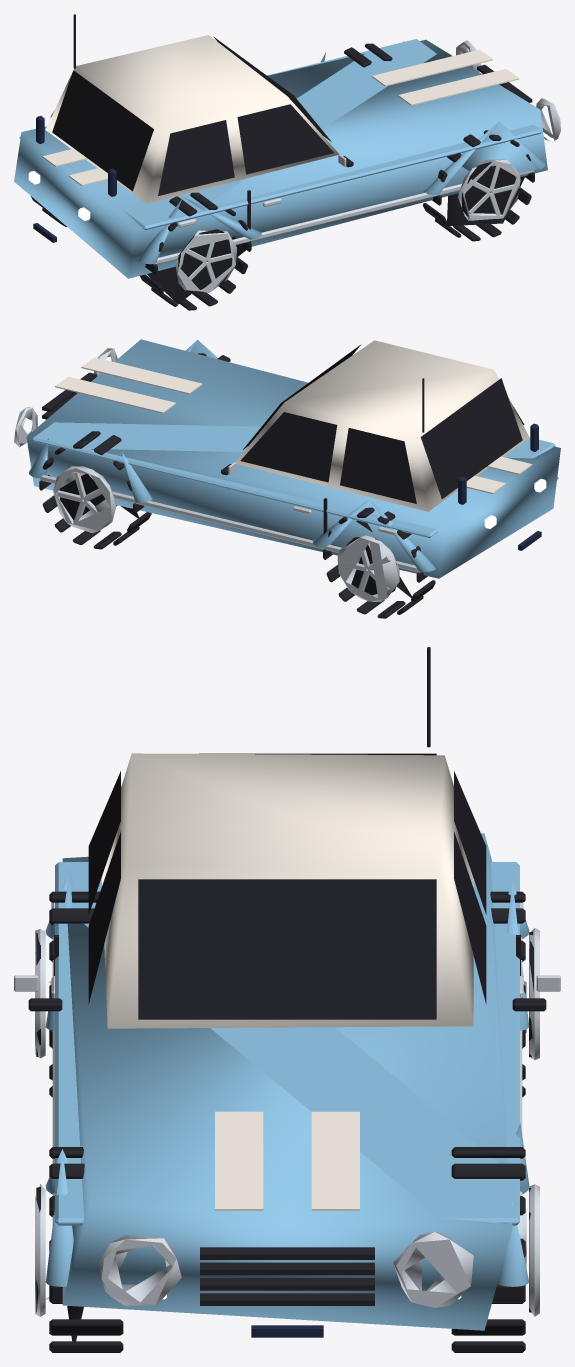
The model's file is car_c.glb.
The picture shows the model from 3 angles, top to bottom: view 1: azimuth 30°, elevation 25°; view 2: azimuth 150°, elevation 25°; view 3: azimuth 270°, elevation 25°; orthographic projection. The views are drawn at different scales.
Visible parts, largest first — view 1: car_c; view 2: car_c; view 3: car_c.
Boxes of the visible parts, <box> form: car_c: <box>14,14,560,310</box>; car_c: <box>14,339,560,618</box>; car_c: <box>14,647,560,1352</box>.
Bounding box in the file's own units: 4.18 × 1.89 × 2.26.
1 material, 1 textured.
